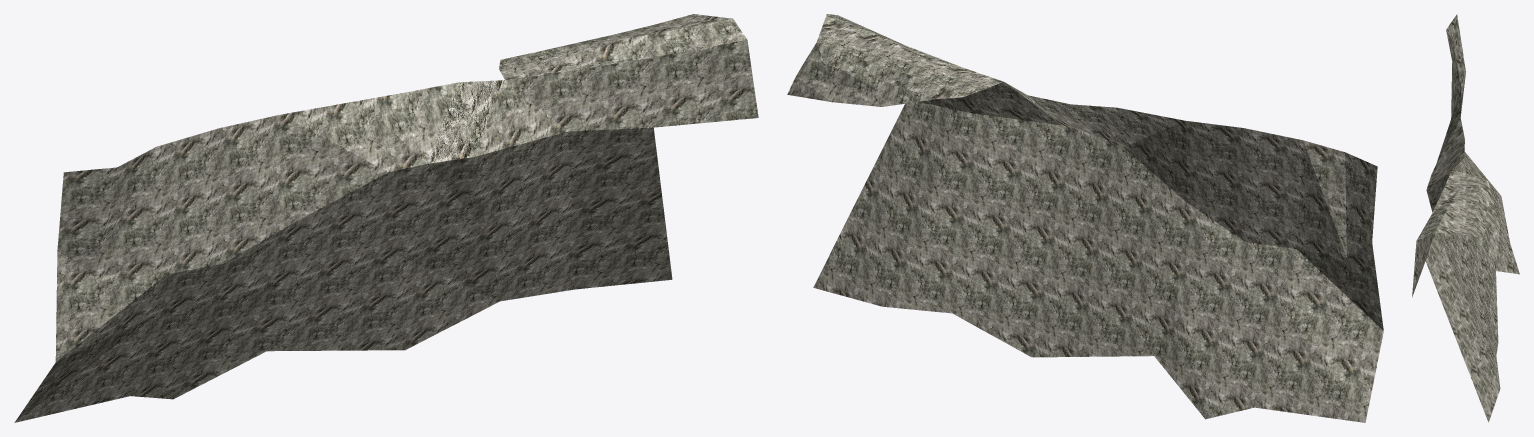
Rendered from ce_ground09a.obj.
The picture shows the model from 3 angles, left to right: view 1: azimuth 30°, elevation 25°; view 2: azimuth 150°, elevation 25°; view 3: azimuth 270°, elevation 25°; orthographic projection. The views are drawn at different scales.
Visible parts, largest first — view 1: CE_ground09A; view 2: CE_ground09A; view 3: CE_ground09A.
Boxes of the visible parts, box(x1,y1,x2,y2) form: CE_ground09A: box(14, 14, 758, 422); CE_ground09A: box(787, 14, 1383, 422); CE_ground09A: box(1412, 14, 1519, 422).
Size of the model in its own units: 261 by 111 by 51.37.
